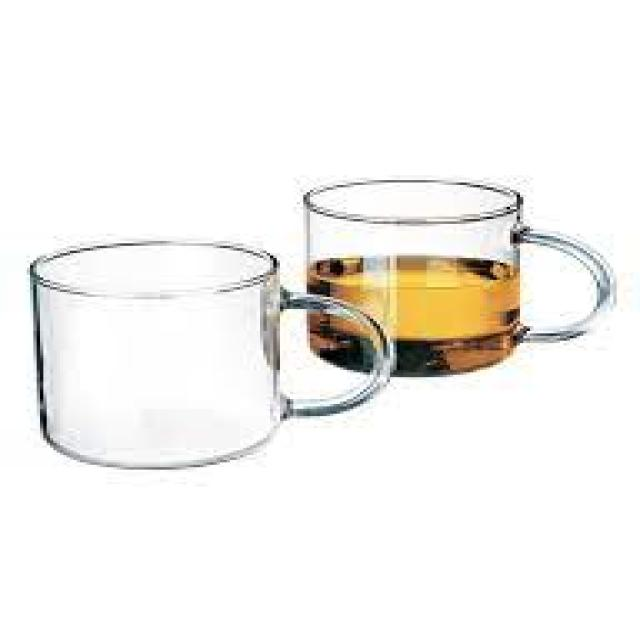Dry Waste: (21, 236, 400, 468), (290, 174, 624, 380)
